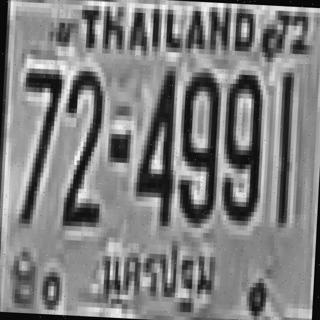N01: (272, 70, 294, 226)
N02: (60, 68, 104, 225)
N04: (133, 65, 177, 222)
N07: (16, 63, 63, 225), (18, 64, 62, 174)
N09: (176, 70, 220, 222), (219, 70, 262, 222)
P28: (96, 232, 217, 316)
